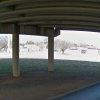Bridge: (1, 2, 100, 48)
